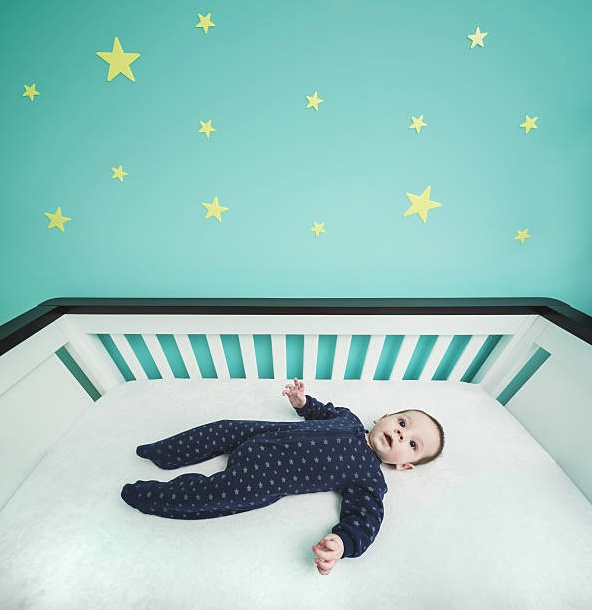baby: (121, 378, 443, 574)
crib: (0, 299, 591, 609)
